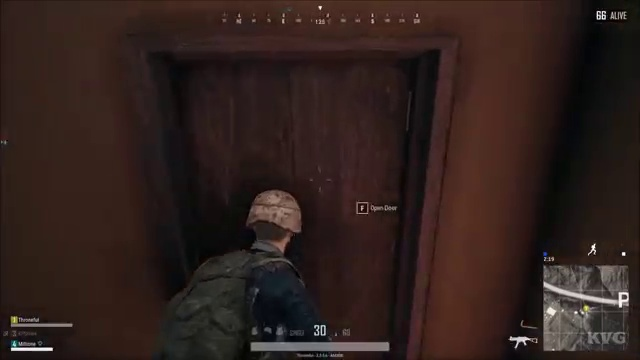Player: (137, 172, 347, 316)
